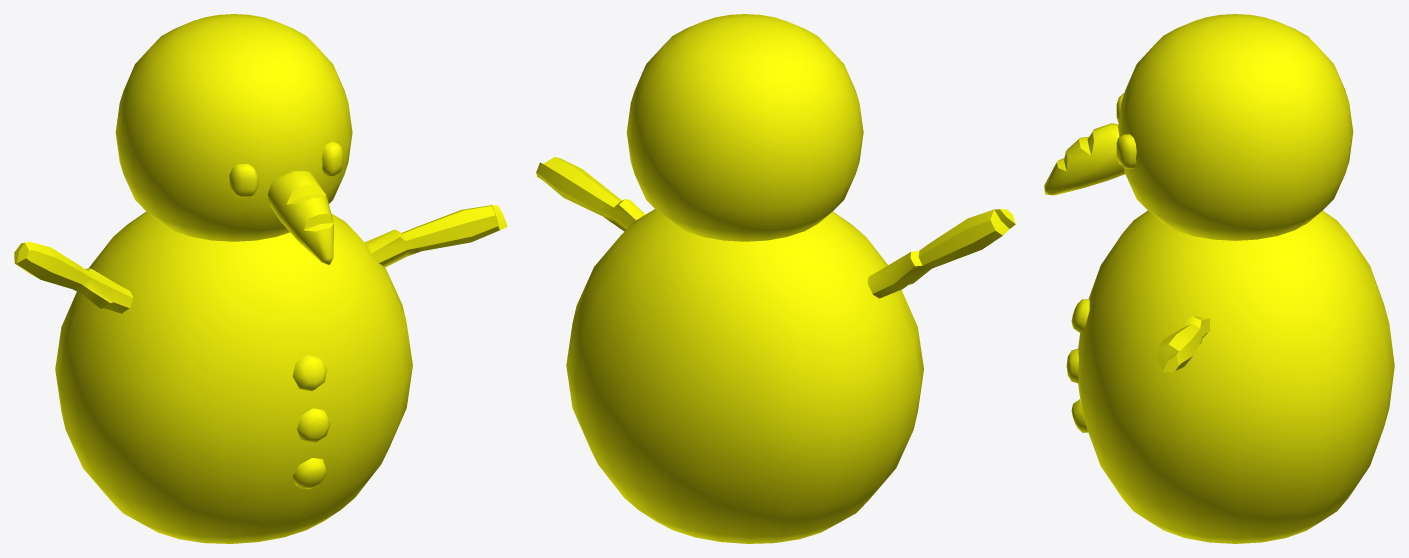
Rendered from kaykit-snowman-a.glb.
The picture shows the model from 3 angles, left to right: view 1: azimuth 30°, elevation 25°; view 2: azimuth 150°, elevation 25°; view 3: azimuth 270°, elevation 25°; orthographic projection.
Parts seen in each view (by area): view 1: snowman_A; view 2: snowman_A; view 3: snowman_A.
Part boxes in pixels (box(x1,y1,x2,y2)): snowman_A: box(14, 14, 507, 543); snowman_A: box(536, 14, 1015, 543); snowman_A: box(1044, 14, 1394, 543).
Size of the model in its own units: 2.17 by 2.05 by 1.37.
